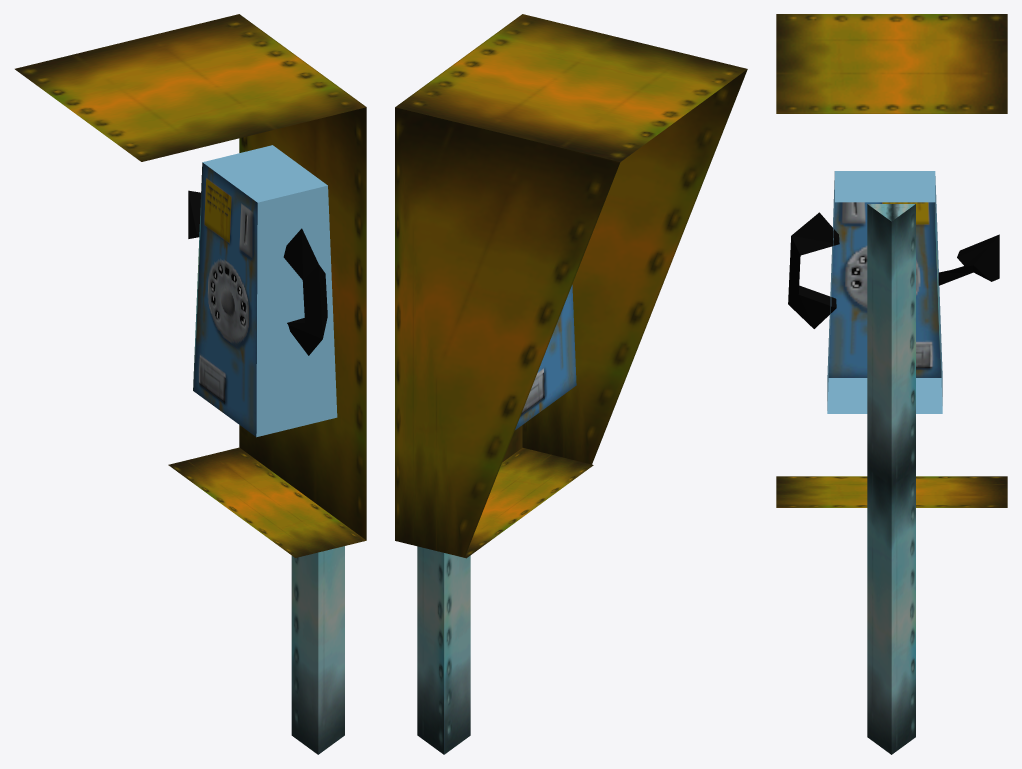
Rendered from Telefonsäule_1984.glb.
3 views of the same model, side by side, from view 1: azimuth 30°, elevation 25°; view 2: azimuth 150°, elevation 25°; view 3: azimuth 270°, elevation 25° (orthographic). The views are drawn at different scales.
Parts seen in each view (by area): view 1: pPlaneShape2, pPlaneShape1, polySurfaceShape3, polySurfaceShape2, pCylinderShape86, pPlaneShape5, pCylinderShape69, pCylinderShape85; view 2: pPlaneShape4, pPlaneShape2, pPlaneShape3, pCylinderShape86, pPlaneShape5, polySurfaceShape2; view 3: pCylinderShape86, pPlaneShape2, polySurfaceShape2, polySurfaceShape3, pPlaneShape5, pCylinderShape69, pCylinderShape85.
Boxes of the visible parts, bbox=[...] form: pPlaneShape2: bbox=[15, 14, 366, 161]; pPlaneShape1: bbox=[239, 107, 366, 540]; polySurfaceShape3: bbox=[202, 145, 337, 437]; polySurfaceShape2: bbox=[193, 162, 257, 436]; pCylinderShape86: bbox=[291, 546, 344, 754]; pPlaneShape5: bbox=[168, 447, 366, 557]; pCylinderShape69: bbox=[283, 228, 327, 355]; pCylinderShape85: bbox=[188, 190, 200, 238]; pPlaneShape4: bbox=[395, 107, 620, 557]; pPlaneShape2: bbox=[395, 14, 747, 162]; pPlaneShape3: bbox=[522, 69, 747, 464]; pCylinderShape86: bbox=[417, 546, 470, 754]; pPlaneShape5: bbox=[464, 447, 593, 558]; polySurfaceShape2: bbox=[515, 285, 576, 429]; pCylinderShape86: bbox=[867, 204, 915, 754]; pPlaneShape2: bbox=[776, 14, 1007, 113]; polySurfaceShape2: bbox=[828, 202, 941, 377]; polySurfaceShape3: bbox=[827, 171, 942, 413]; pPlaneShape5: bbox=[776, 476, 1007, 507]; pCylinderShape69: bbox=[788, 212, 839, 328]; pCylinderShape85: bbox=[938, 234, 999, 285].
Size of the model in its own units: 0.1506 by 0.3694 by 0.1245.
Materials: 10 (7 with a texture image).
